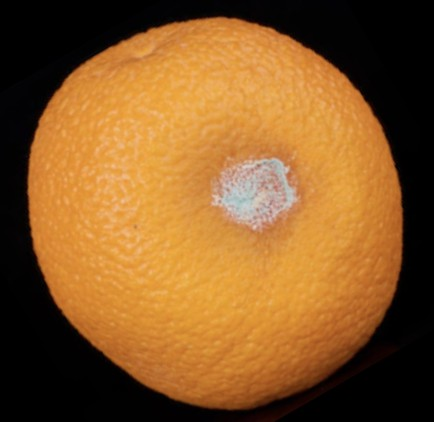rotten_orange: (29, 19, 402, 407)
